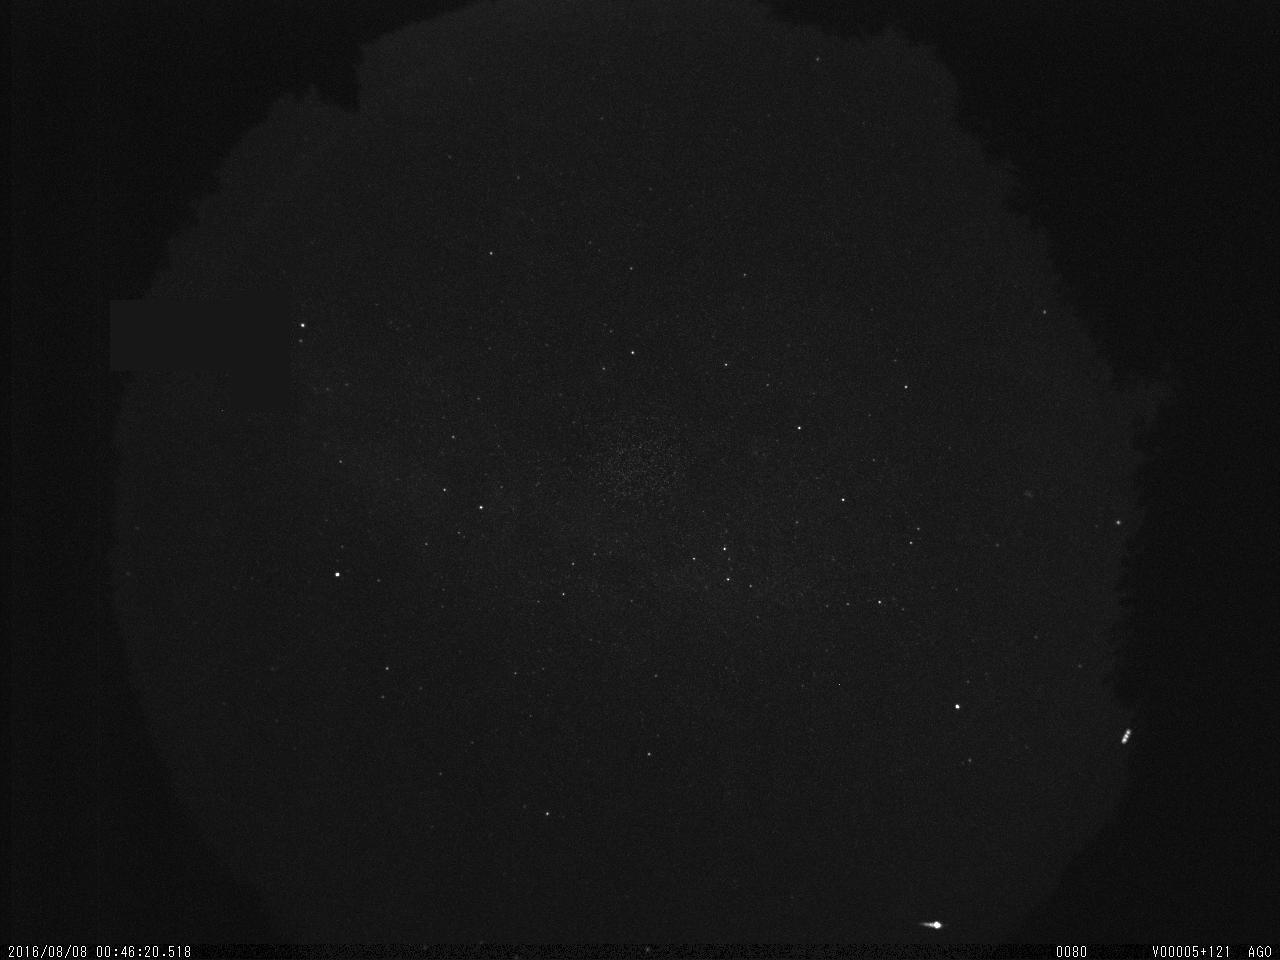meteor: (919, 913, 945, 937)
satelite: (1115, 722, 1133, 751)
